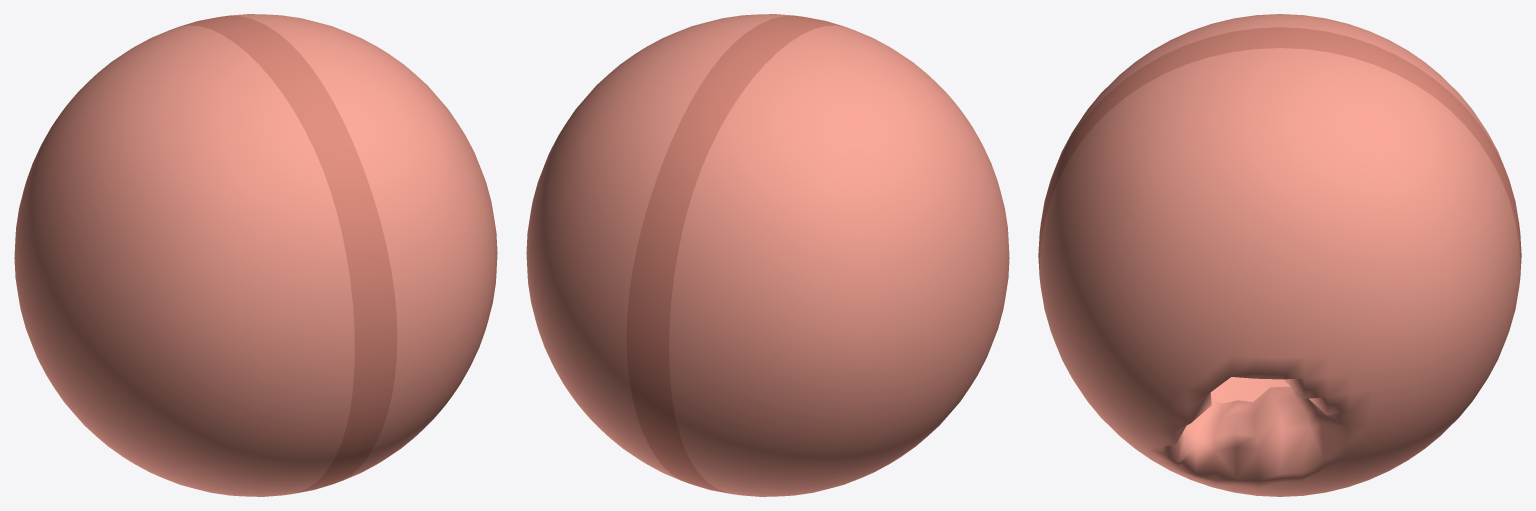
File: Planet.fbx
The picture shows the model from 3 angles, left to right: view 1: azimuth 30°, elevation 25°; view 2: azimuth 150°, elevation 25°; view 3: azimuth 270°, elevation 25°; orthographic projection.
Parts seen in each view (by area): view 1: Planet; view 2: Planet; view 3: Planet.
Part boxes in pixels (box(x1,y1,x2,y2)): Planet: box(14, 14, 497, 496); Planet: box(526, 14, 1009, 496); Planet: box(1038, 14, 1521, 496).
Bounding box in the file's own units: 2497 × 2497 × 2497.
